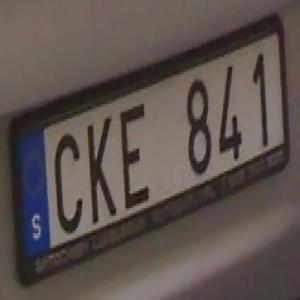Plate: (10, 22, 289, 263)
